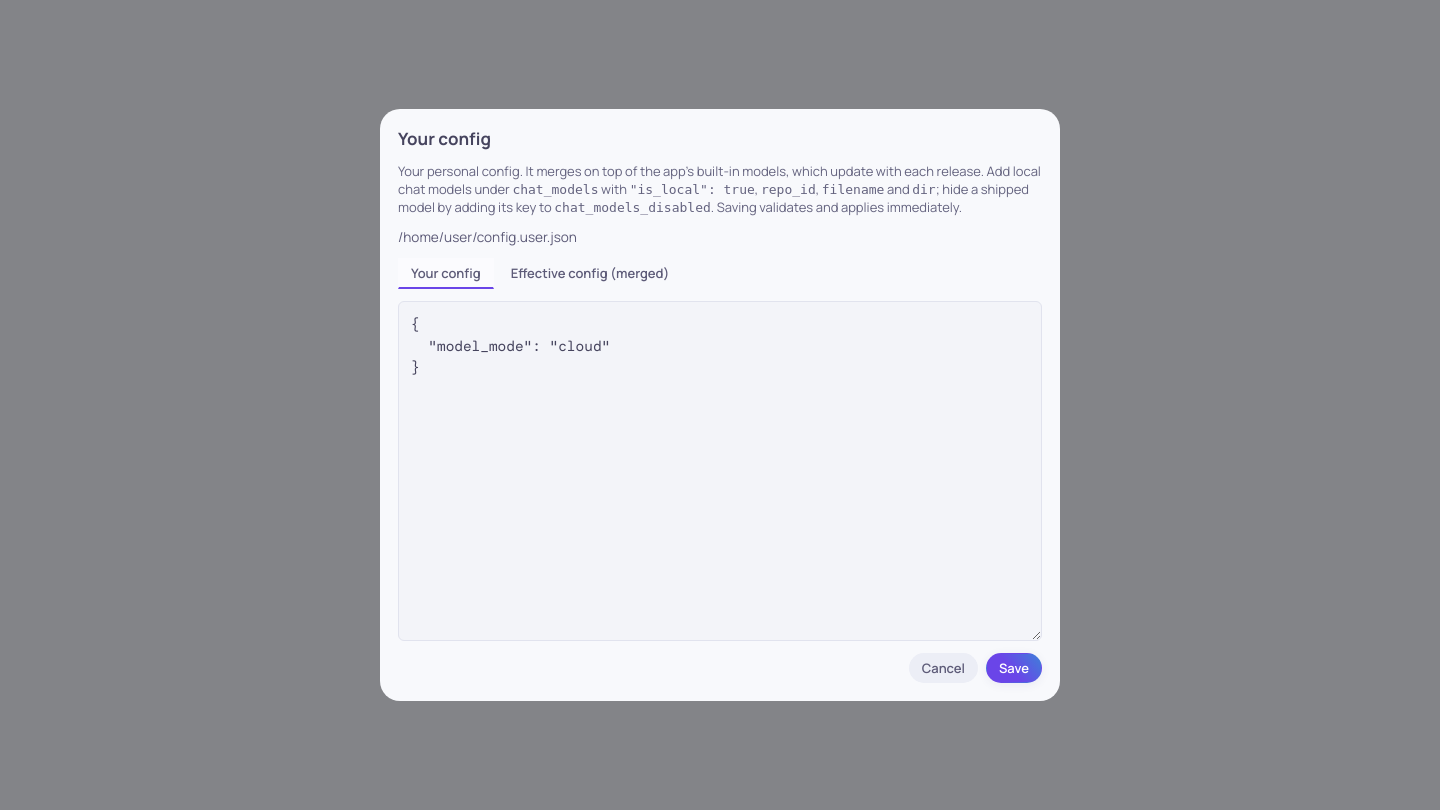
ConfigEditorDialog › shows the read-only effective (merged) view on its tab, listing shipped models
The width and height of the screenshot is (1440, 810).
Expected: the text box named "Your config contents" is shown, [398,301,1042,641]
# Switch to the effective tab.
Click the tab "Effective config (merged)": coordinates (590, 274) [498,258,682,289]
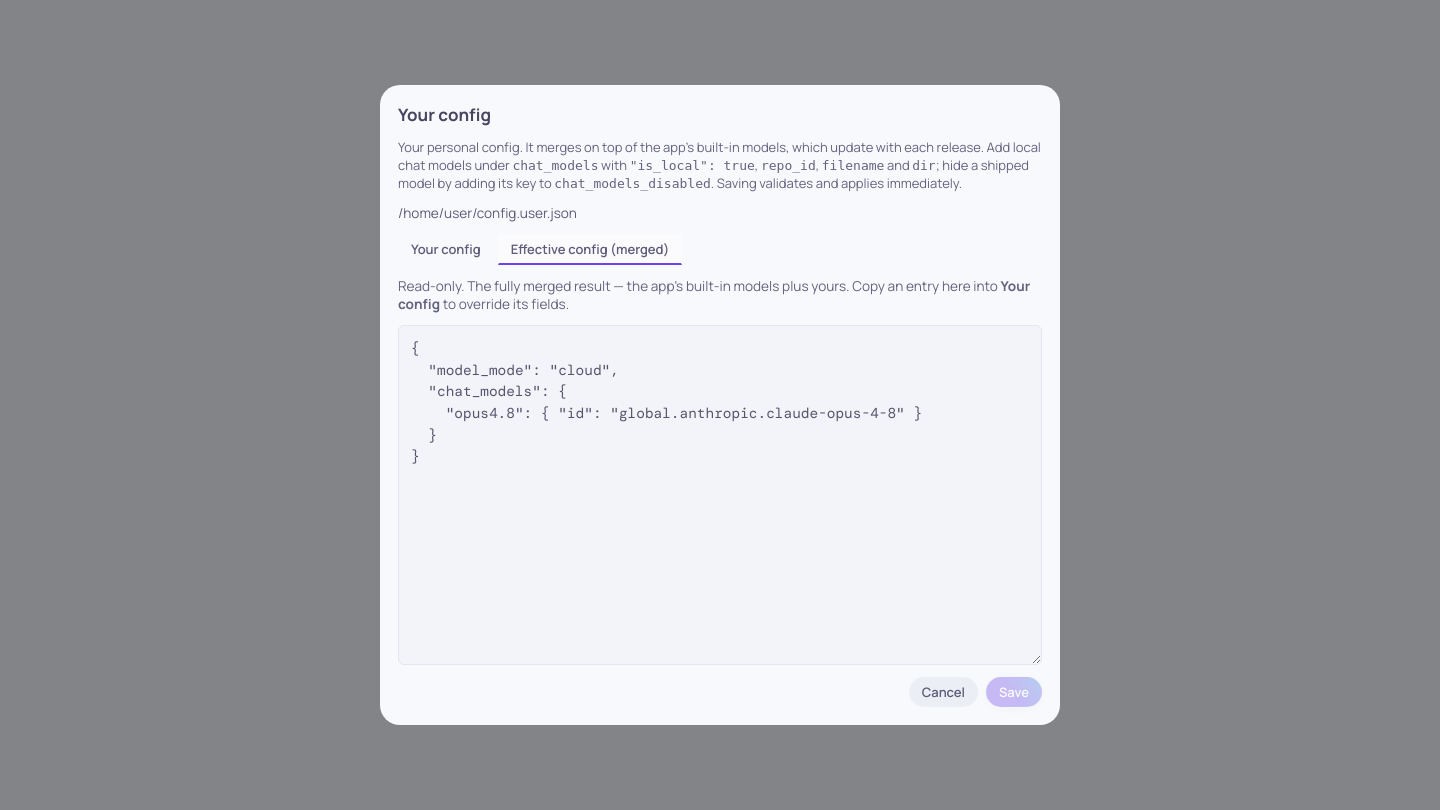
Now the button "Save" is disabled, box [986,677,1042,707]
